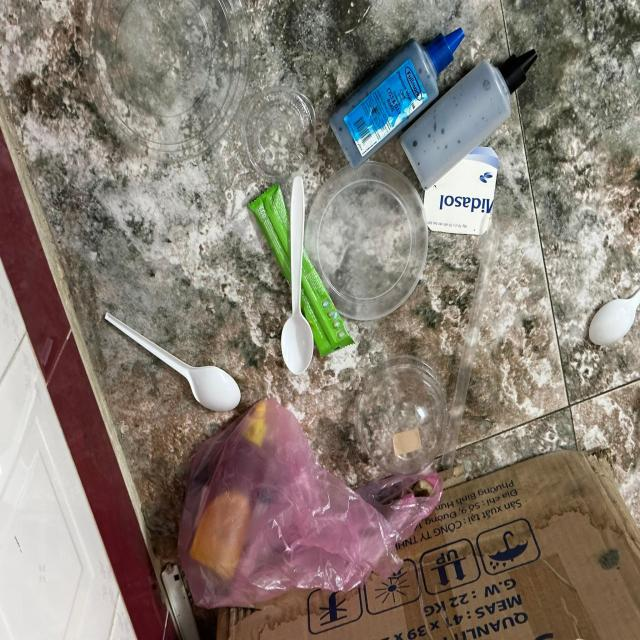bottle: (401, 49, 536, 190), (334, 28, 464, 171)
cardboard box: (422, 147, 499, 234)
drinking straw: (442, 228, 500, 470)
lid: (81, 0, 250, 160), (305, 161, 425, 322), (351, 356, 447, 474), (242, 89, 316, 179)
packet: (247, 184, 356, 356)
plastic utensil: (104, 309, 240, 412), (281, 176, 313, 380), (589, 281, 640, 348)
trash bag: (178, 396, 440, 604)
